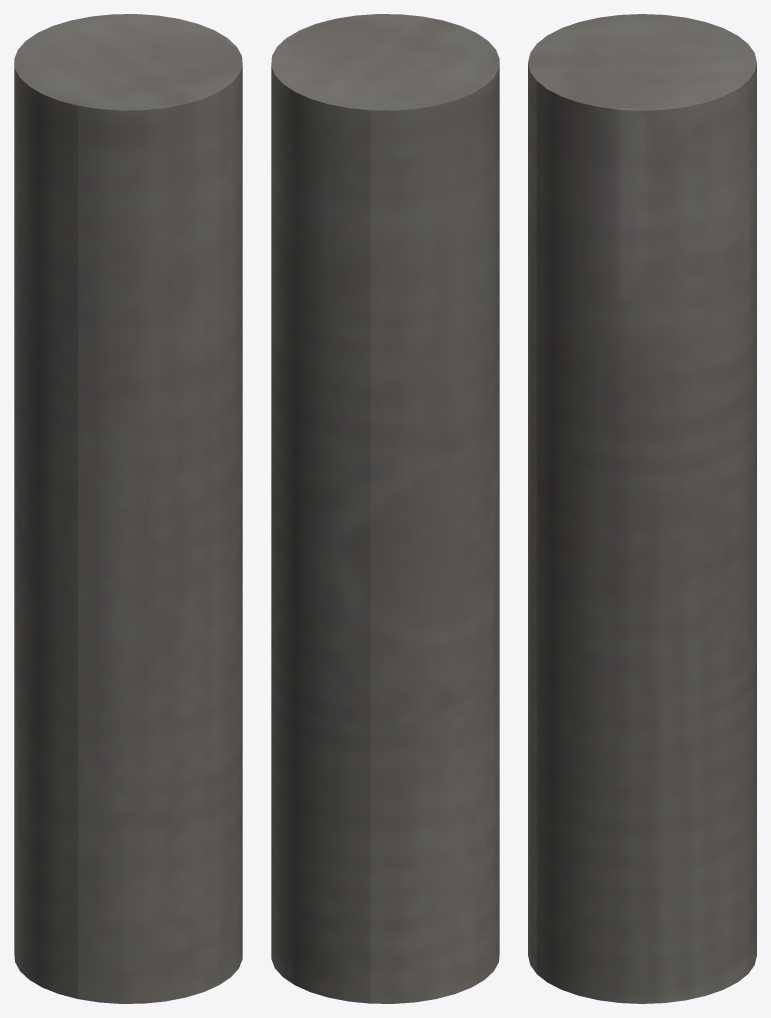
Rendered from rear_support_arm__upper_roller.glb.
3 views of the same model, side by side, from view 1: azimuth 30°, elevation 25°; view 2: azimuth 150°, elevation 25°; view 3: azimuth 270°, elevation 25° (orthographic).
Visible parts, largest first — view 1: world; view 2: world; view 3: world.
Part boxes in pixels (x1=…): world: x1=14, y1=14, x2=242, y2=1003; world: x1=271, y1=14, x2=499, y2=1003; world: x1=528, y1=14, x2=756, y2=1003.
Bounding box in the file's own units: 0.036 × 0.155 × 0.036.
1 material, 1 textured.
